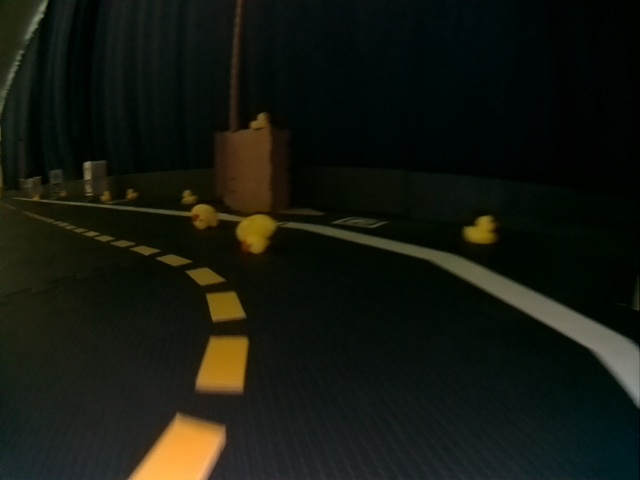Duckie: (236, 215, 271, 253), (463, 217, 496, 243), (192, 205, 217, 229), (250, 113, 269, 128), (181, 190, 197, 204), (100, 191, 111, 201), (128, 189, 138, 199)
QR code: (334, 217, 388, 226)
